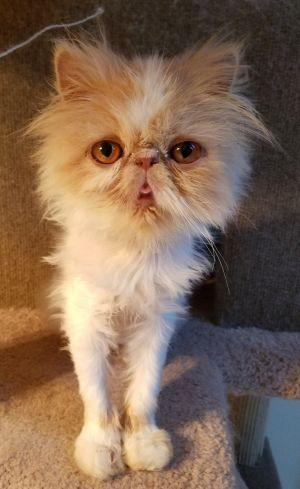persian: (22, 18, 267, 253)
